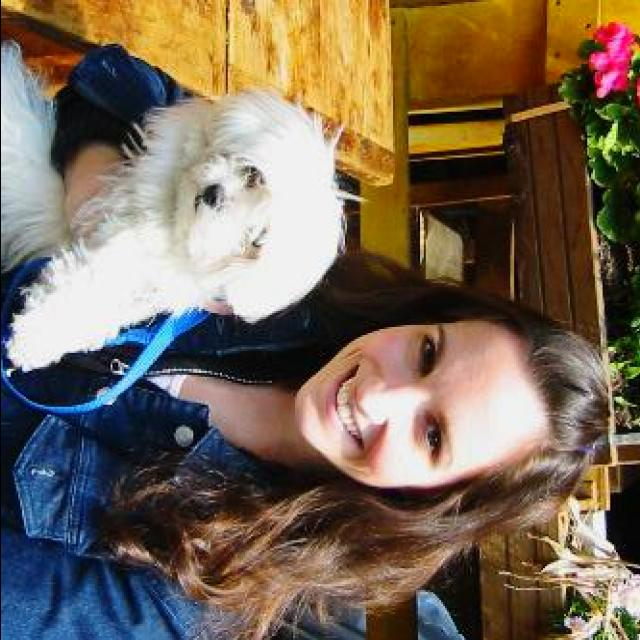maltese_dog: (2, 34, 348, 375)
